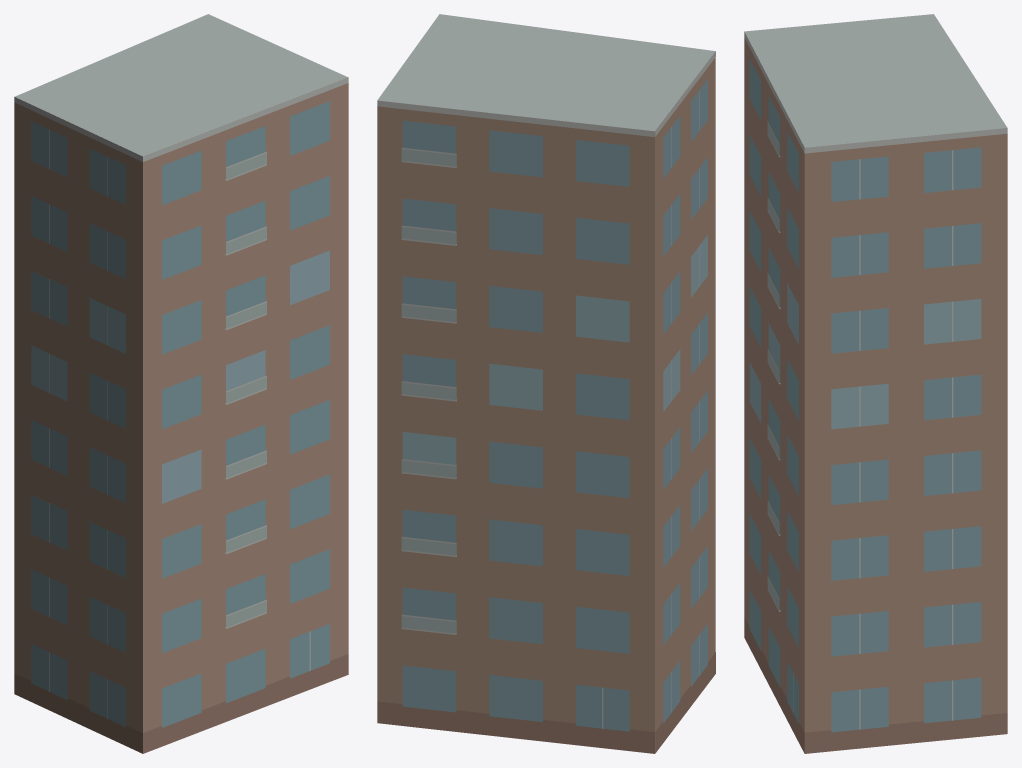
The model's file is survey-upis-32569108.glb.
The picture shows the model from 3 angles, left to right: view 1: azimuth 30°, elevation 25°; view 2: azimuth 150°, elevation 25°; view 3: azimuth 270°, elevation 25°; orthographic projection. The views are drawn at different scales.
Parts seen in each view (by area): view 1: survey-upis-32569108.tmp; view 2: survey-upis-32569108.tmp; view 3: survey-upis-32569108.tmp.
Boxes of the visible parts, left/top/right/bottom form: survey-upis-32569108.tmp: left=14, top=14, right=348, bottom=753; survey-upis-32569108.tmp: left=377, top=14, right=715, bottom=753; survey-upis-32569108.tmp: left=744, top=14, right=1007, bottom=753.
Size of the model in its own units: 12.38 by 26.1 by 10.29.
